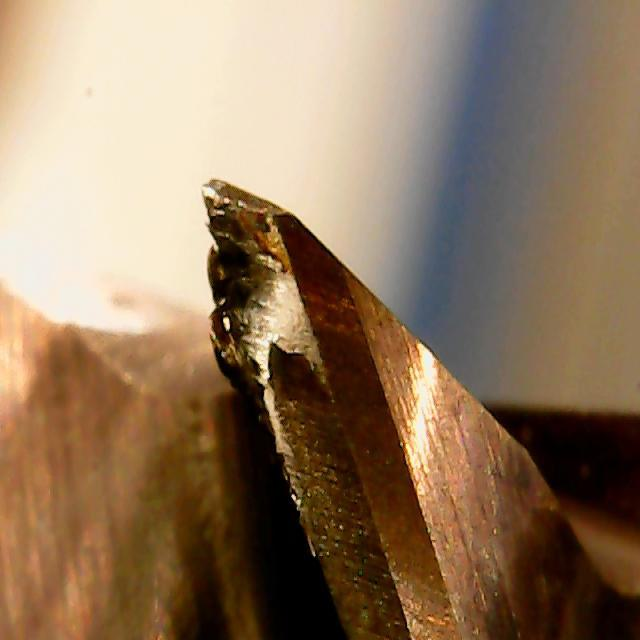Tool-wear-class-3: (196, 150, 380, 385)
